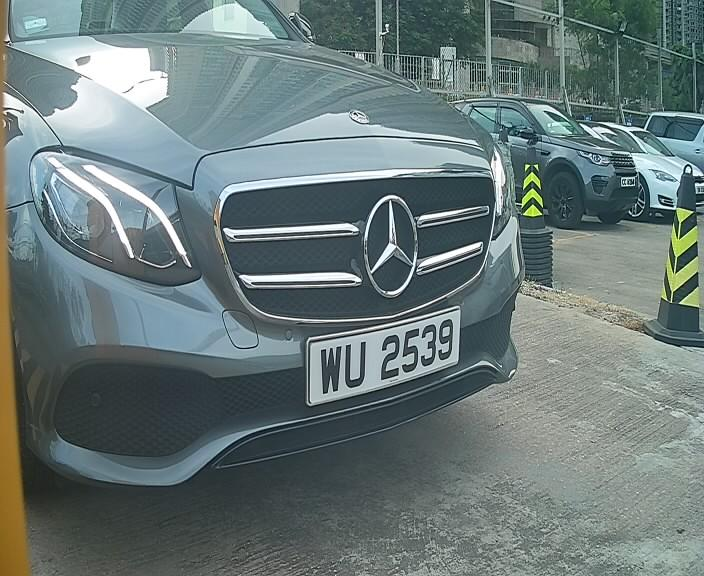License Plate: (296, 312, 466, 404)
